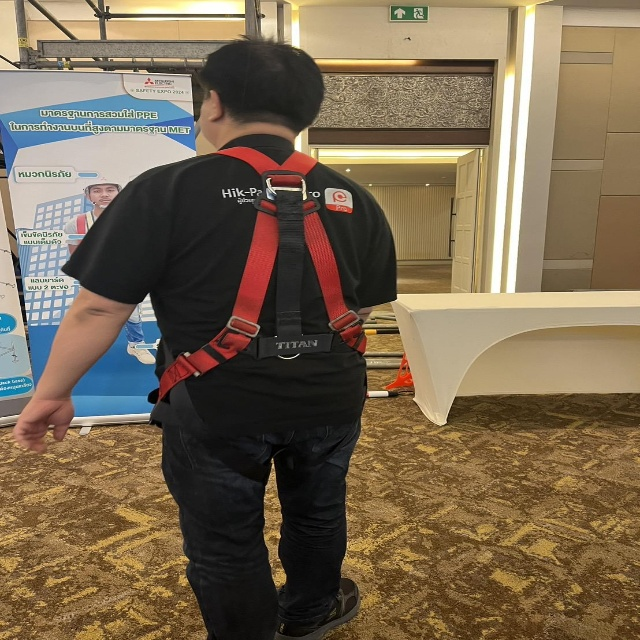Arnes_seguridad: (162, 142, 378, 416)
